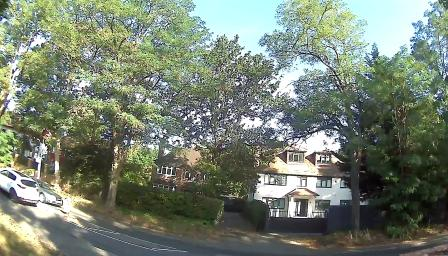Cars: (3, 161, 42, 209), (28, 171, 64, 213)
